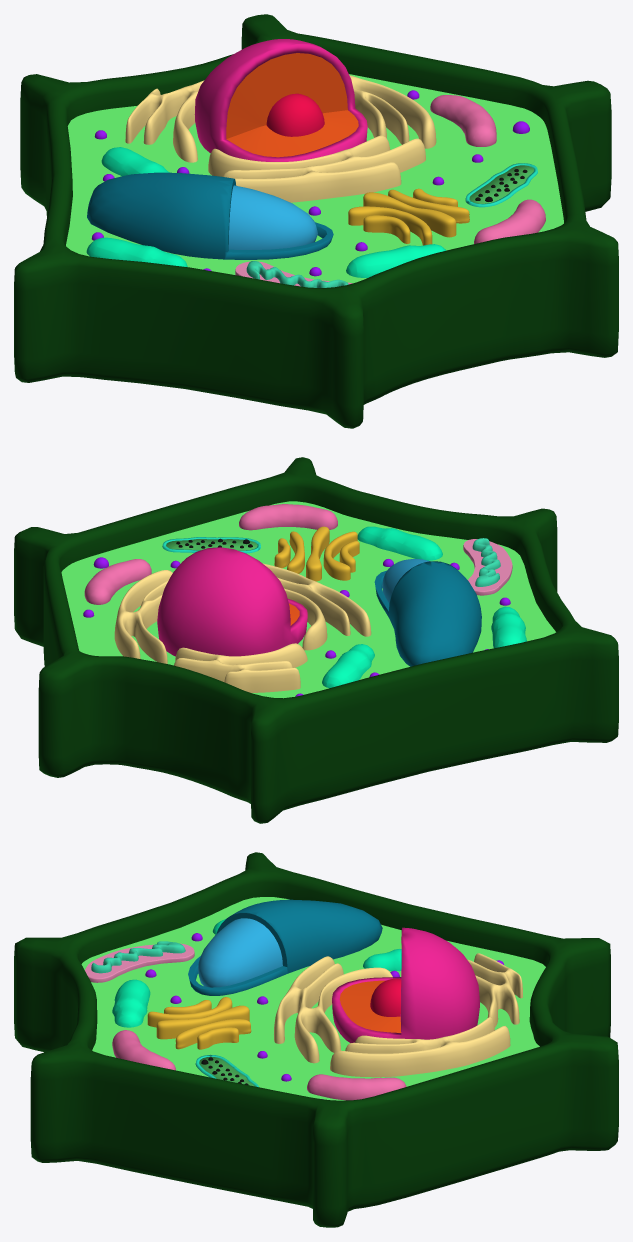
The model's file is vegetal_cell.glb.
The picture shows the model from 3 angles, top to bottom: view 1: azimuth 30°, elevation 25°; view 2: azimuth 150°, elevation 25°; view 3: azimuth 270°, elevation 25°; orthographic projection. The views are drawn at different scales.
Parts seen in each view (by area): view 1: Pared celular, Membrana celular, Reticulo endoplasmatico, Tonoplasto, Nucleo, Envoltura nuclear, Cloroplasto, Mitocondria, Aparato de Golgi, Vacuolo, Nucleolo, Citoplasma; view 2: Pared celular, Membrana celular, Envoltura nuclear, Reticulo endoplasmatico, Tonoplasto, Mitocondria, Cloroplasto, Aparato de Golgi, Vacuolo, Citoplasma; view 3: Pared celular, Membrana celular, Reticulo endoplasmatico, Envoltura nuclear, Tonoplasto, Mitocondria, Vacuolo, Aparato de Golgi, Cloroplasto, Nucleo, Nucleolo, Citoplasma.
Boxes of the visible parts, x1,y1,x2,y2 form: Pared celular: [14, 14, 618, 428]; Membrana celular: [66, 74, 563, 283]; Reticulo endoplasmatico: [125, 75, 436, 202]; Tonoplasto: [87, 172, 333, 259]; Nucleo: [226, 53, 358, 157]; Envoltura nuclear: [194, 39, 367, 161]; Cloroplasto: [86, 147, 537, 277]; Mitocondria: [235, 95, 545, 287]; Aparato de Golgi: [348, 188, 469, 245]; Vacuolo: [228, 185, 317, 249]; Nucleolo: [266, 93, 324, 136]; Citoplasma: [91, 90, 529, 276]; Pared celular: [14, 457, 618, 823]; Membrana celular: [61, 501, 555, 698]; Envoltura nuclear: [157, 547, 307, 656]; Reticulo endoplasmatico: [114, 563, 371, 692]; Tonoplasto: [374, 561, 481, 666]; Mitocondria: [84, 504, 512, 604]; Cloroplasto: [162, 526, 526, 688]; Aparato de Golgi: [274, 526, 359, 581]; Vacuolo: [382, 558, 429, 602]; Citoplasma: [83, 557, 510, 696]; Pared celular: [14, 852, 618, 1227]; Membrana celular: [81, 897, 545, 1100]; Reticulo endoplasmatico: [274, 953, 522, 1077]; Envoltura nuclear: [332, 927, 479, 1042]; Tonoplasto: [188, 899, 382, 995]; Mitocondria: [85, 941, 406, 1100]; Vacuolo: [197, 918, 282, 987]; Aparato de Golgi: [147, 997, 251, 1049]; Cloroplasto: [112, 919, 401, 1087]; Nucleo: [339, 980, 401, 1032]; Nucleolo: [370, 978, 401, 1016]; Citoplasma: [145, 933, 503, 1099].
Bounding box in the file's own units: 3.29 × 0.9626 × 3.03.
Materials: 1 (1 with a texture image).
